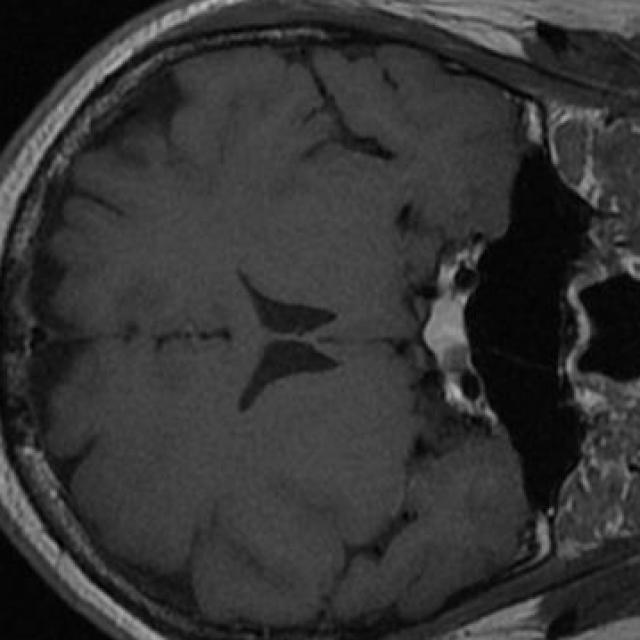pituitary: (423, 292, 467, 369)
